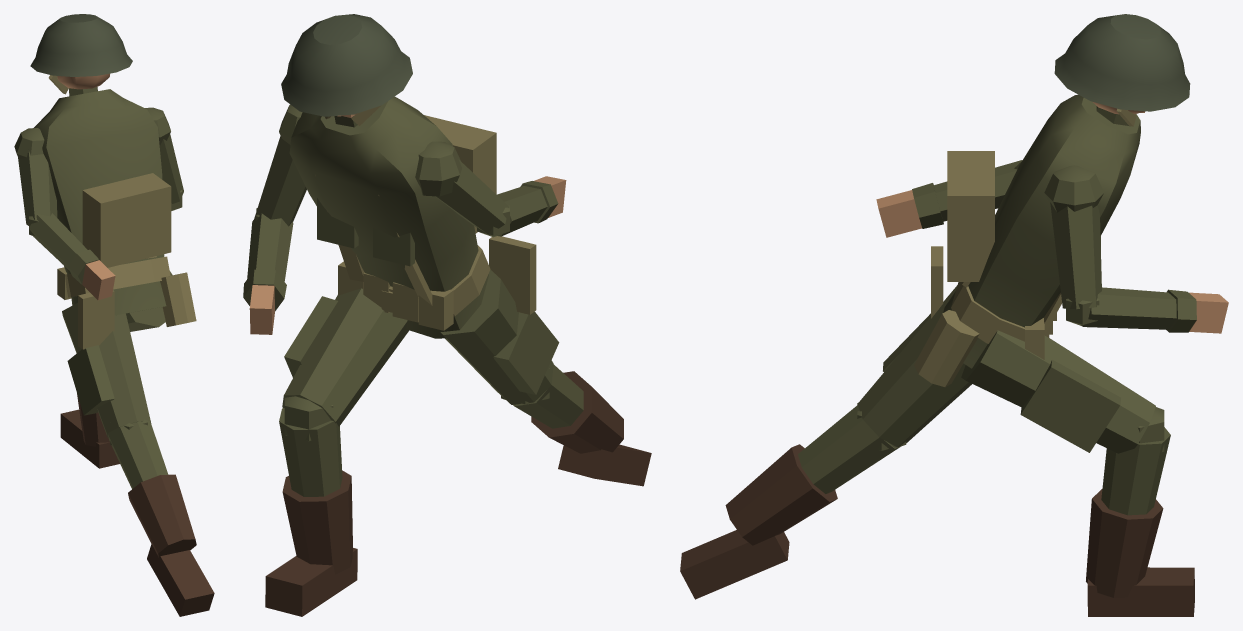
Rendered from soldier_us_crouch_run.glb.
3 views of the same model, side by side, from view 1: azimuth 30°, elevation 25°; view 2: azimuth 150°, elevation 25°; view 3: azimuth 270°, elevation 25° (orthographic). The views are drawn at different scales.
Visible parts, largest first — view 1: soldier_us_crouch_run; view 2: soldier_us_crouch_run; view 3: soldier_us_crouch_run.
Boxes of the visible parts, x1,y1,x2,y2 form: soldier_us_crouch_run: (14, 14, 214, 616); soldier_us_crouch_run: (243, 14, 651, 616); soldier_us_crouch_run: (680, 14, 1228, 616).
Size of the model in its own units: 0.5971 by 1.51 by 1.24.
